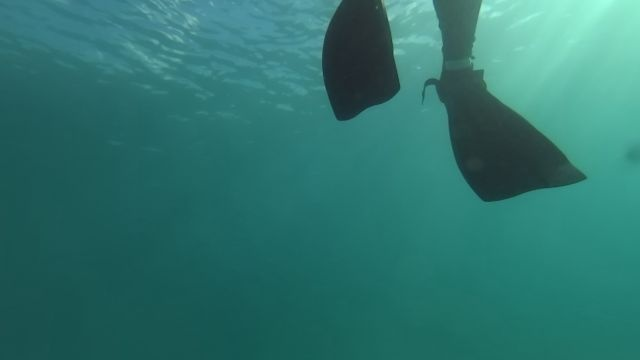Diver: (316, 3, 588, 198)
